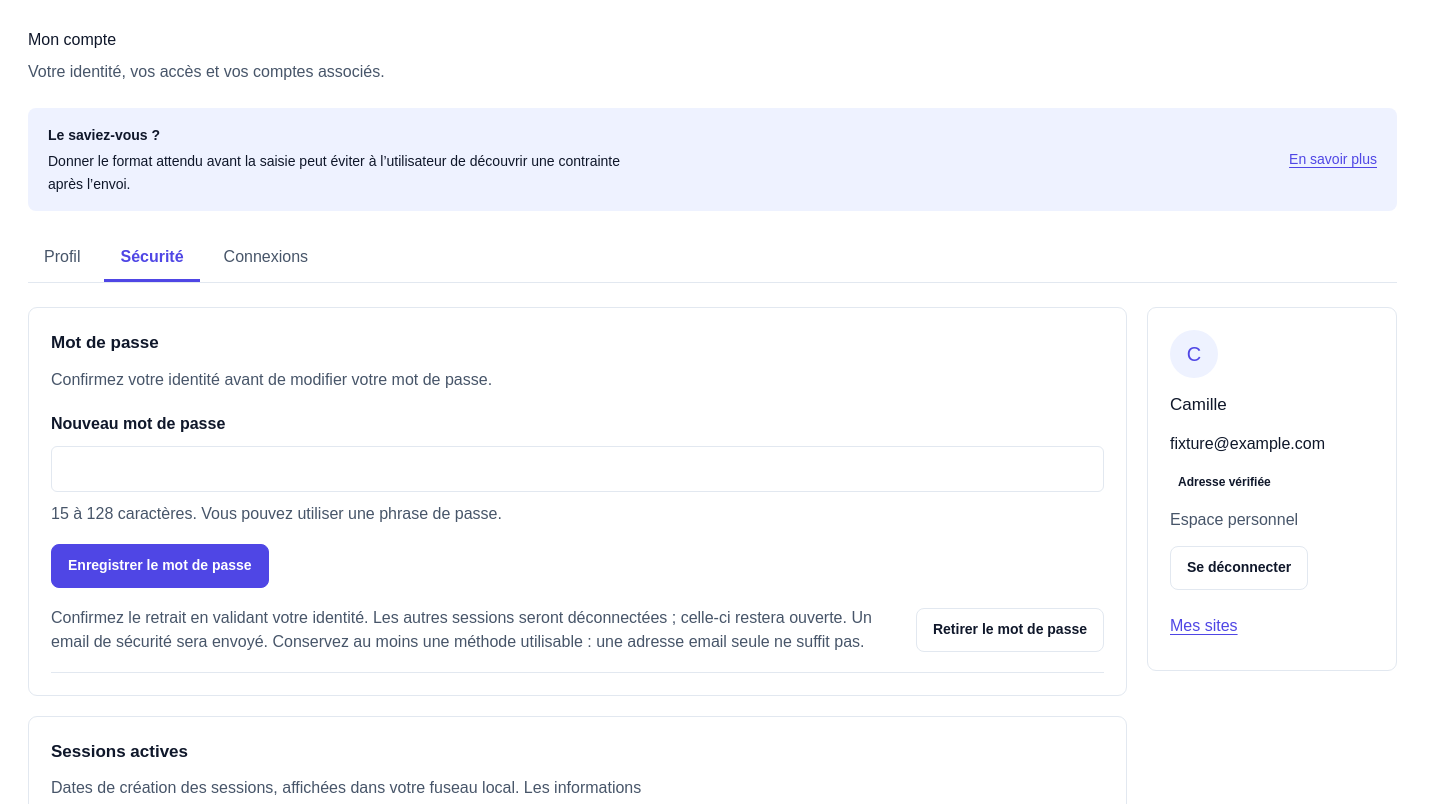
Scenario: does not mutate or navigate when an identity check fails
Type "a synthetic long passphrase" into the password field labelled "Nouveau mot de passe" at (578,469), box x1=51 y1=446 x2=1104 y2=492
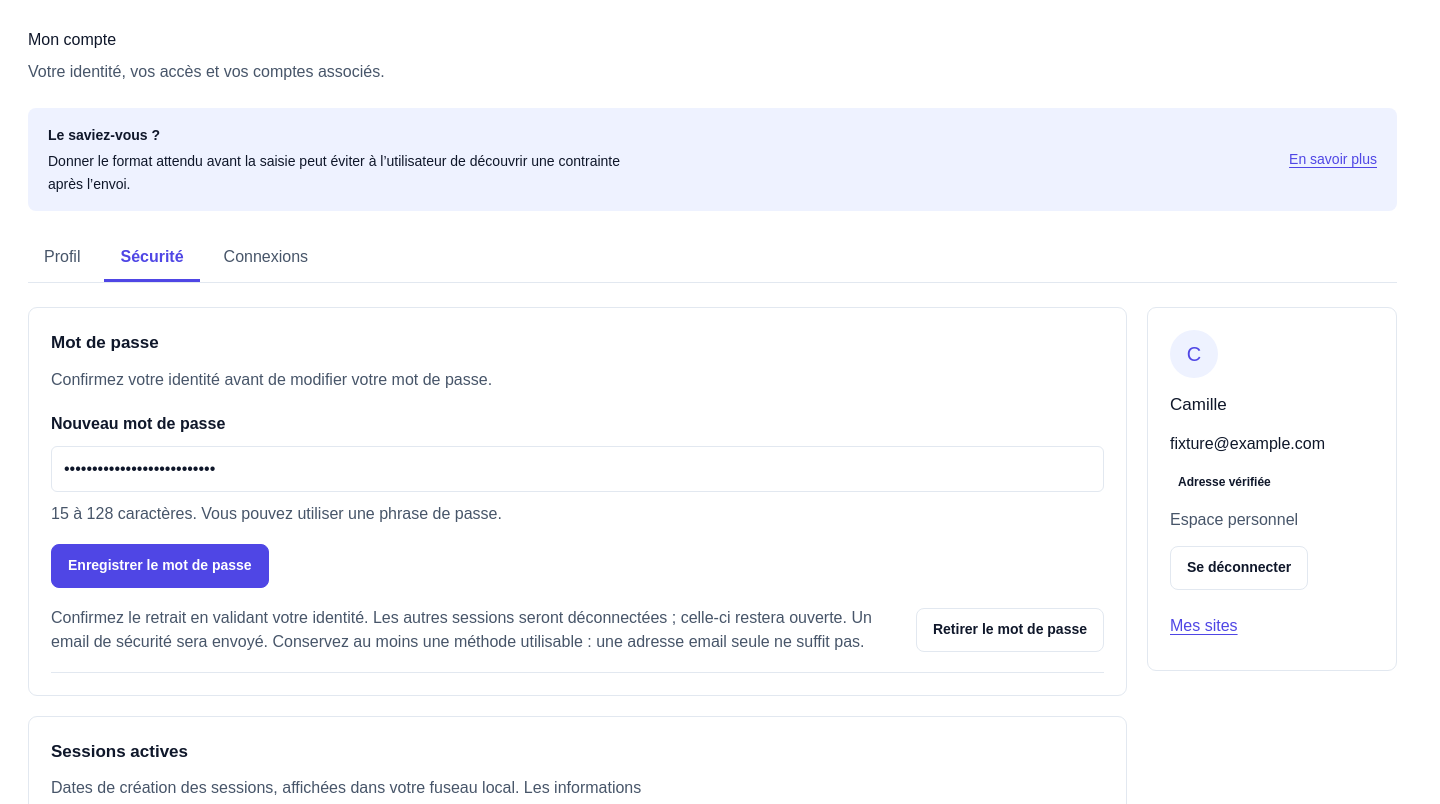
Submit the form named "Enregistrer le mot de passe", box x1=51 y1=412 x2=1104 y2=588
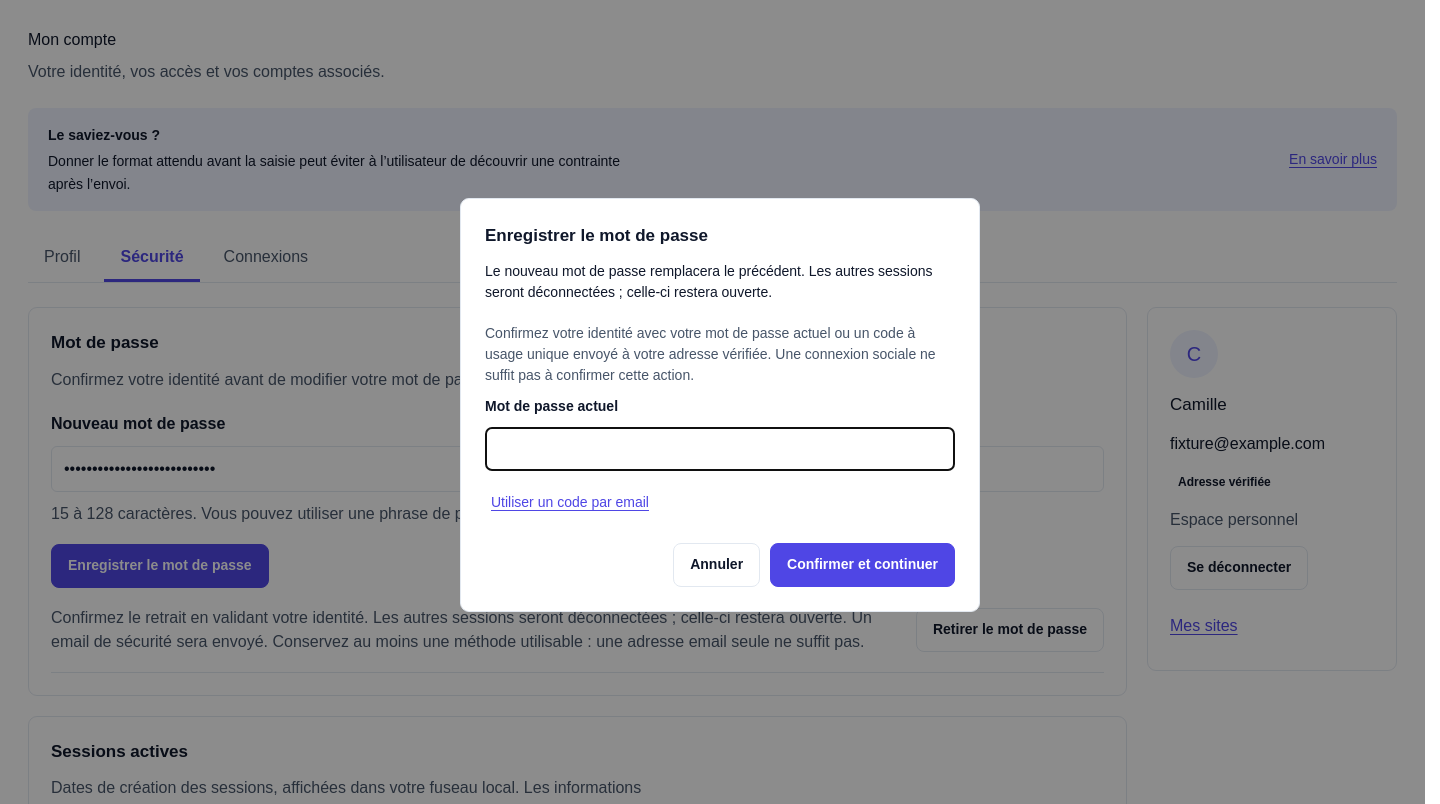
Type "invalid" into the password field labelled "Mot de passe actuel" at (720,449), box x1=485 y1=427 x2=955 y2=471
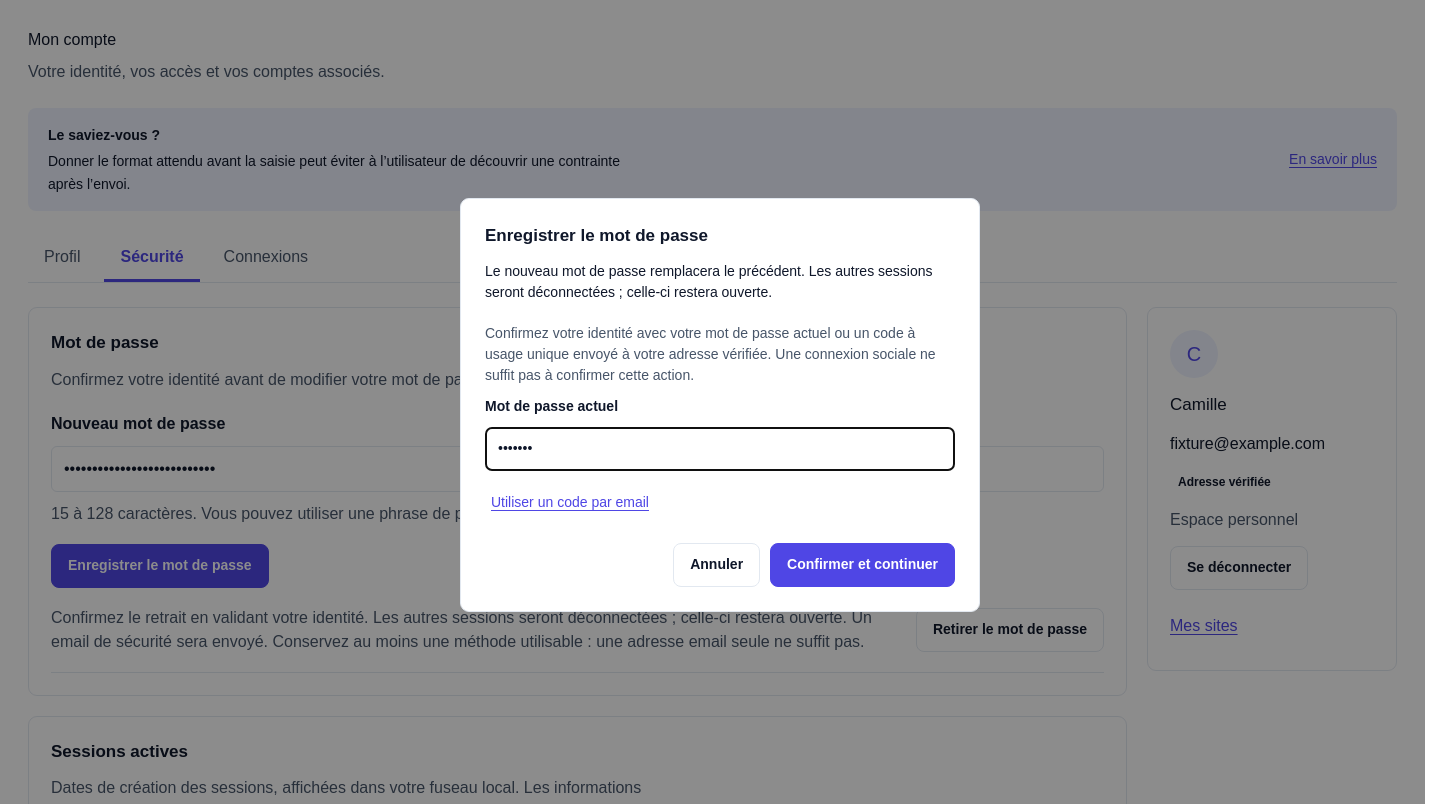
Submit the form named "Confirmer et continuer", box x1=485 y1=323 x2=955 y2=587
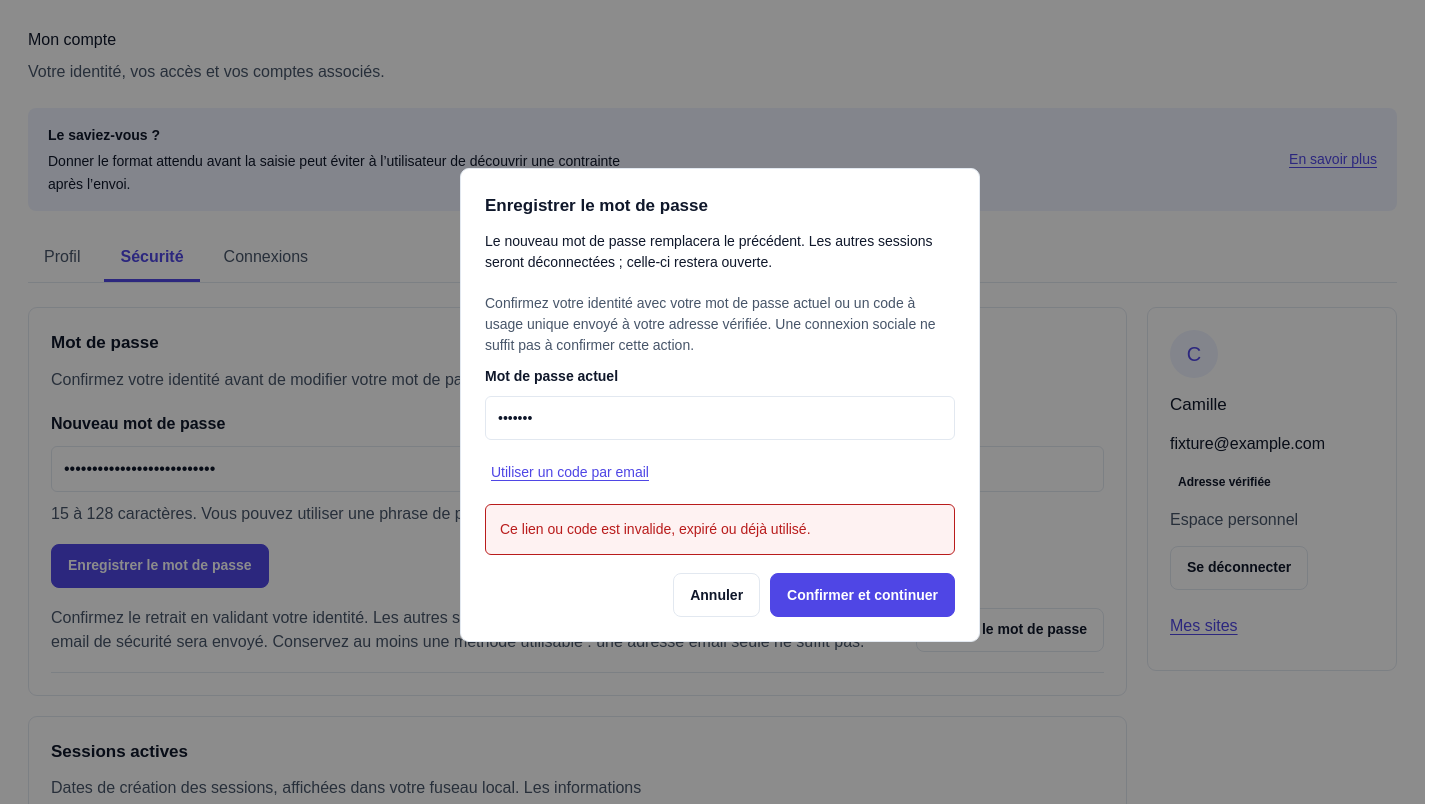
Expected: the message shows "invalide", x1=500 y1=521 x2=810 y2=537
